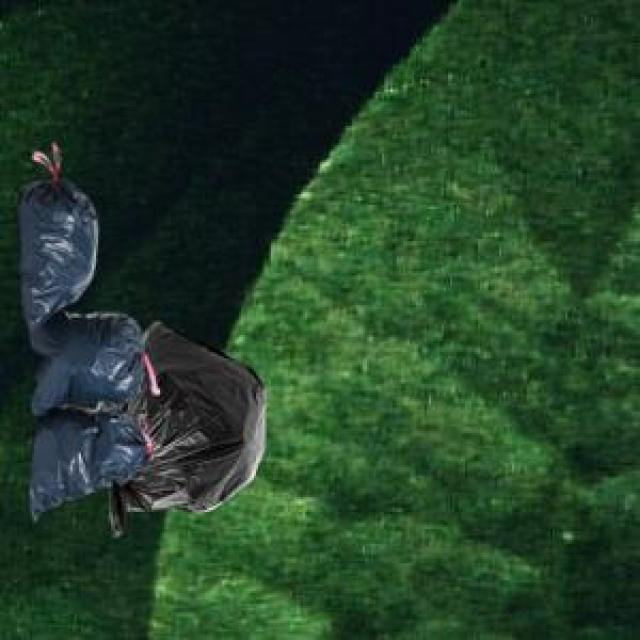waste: (19, 144, 265, 536)
